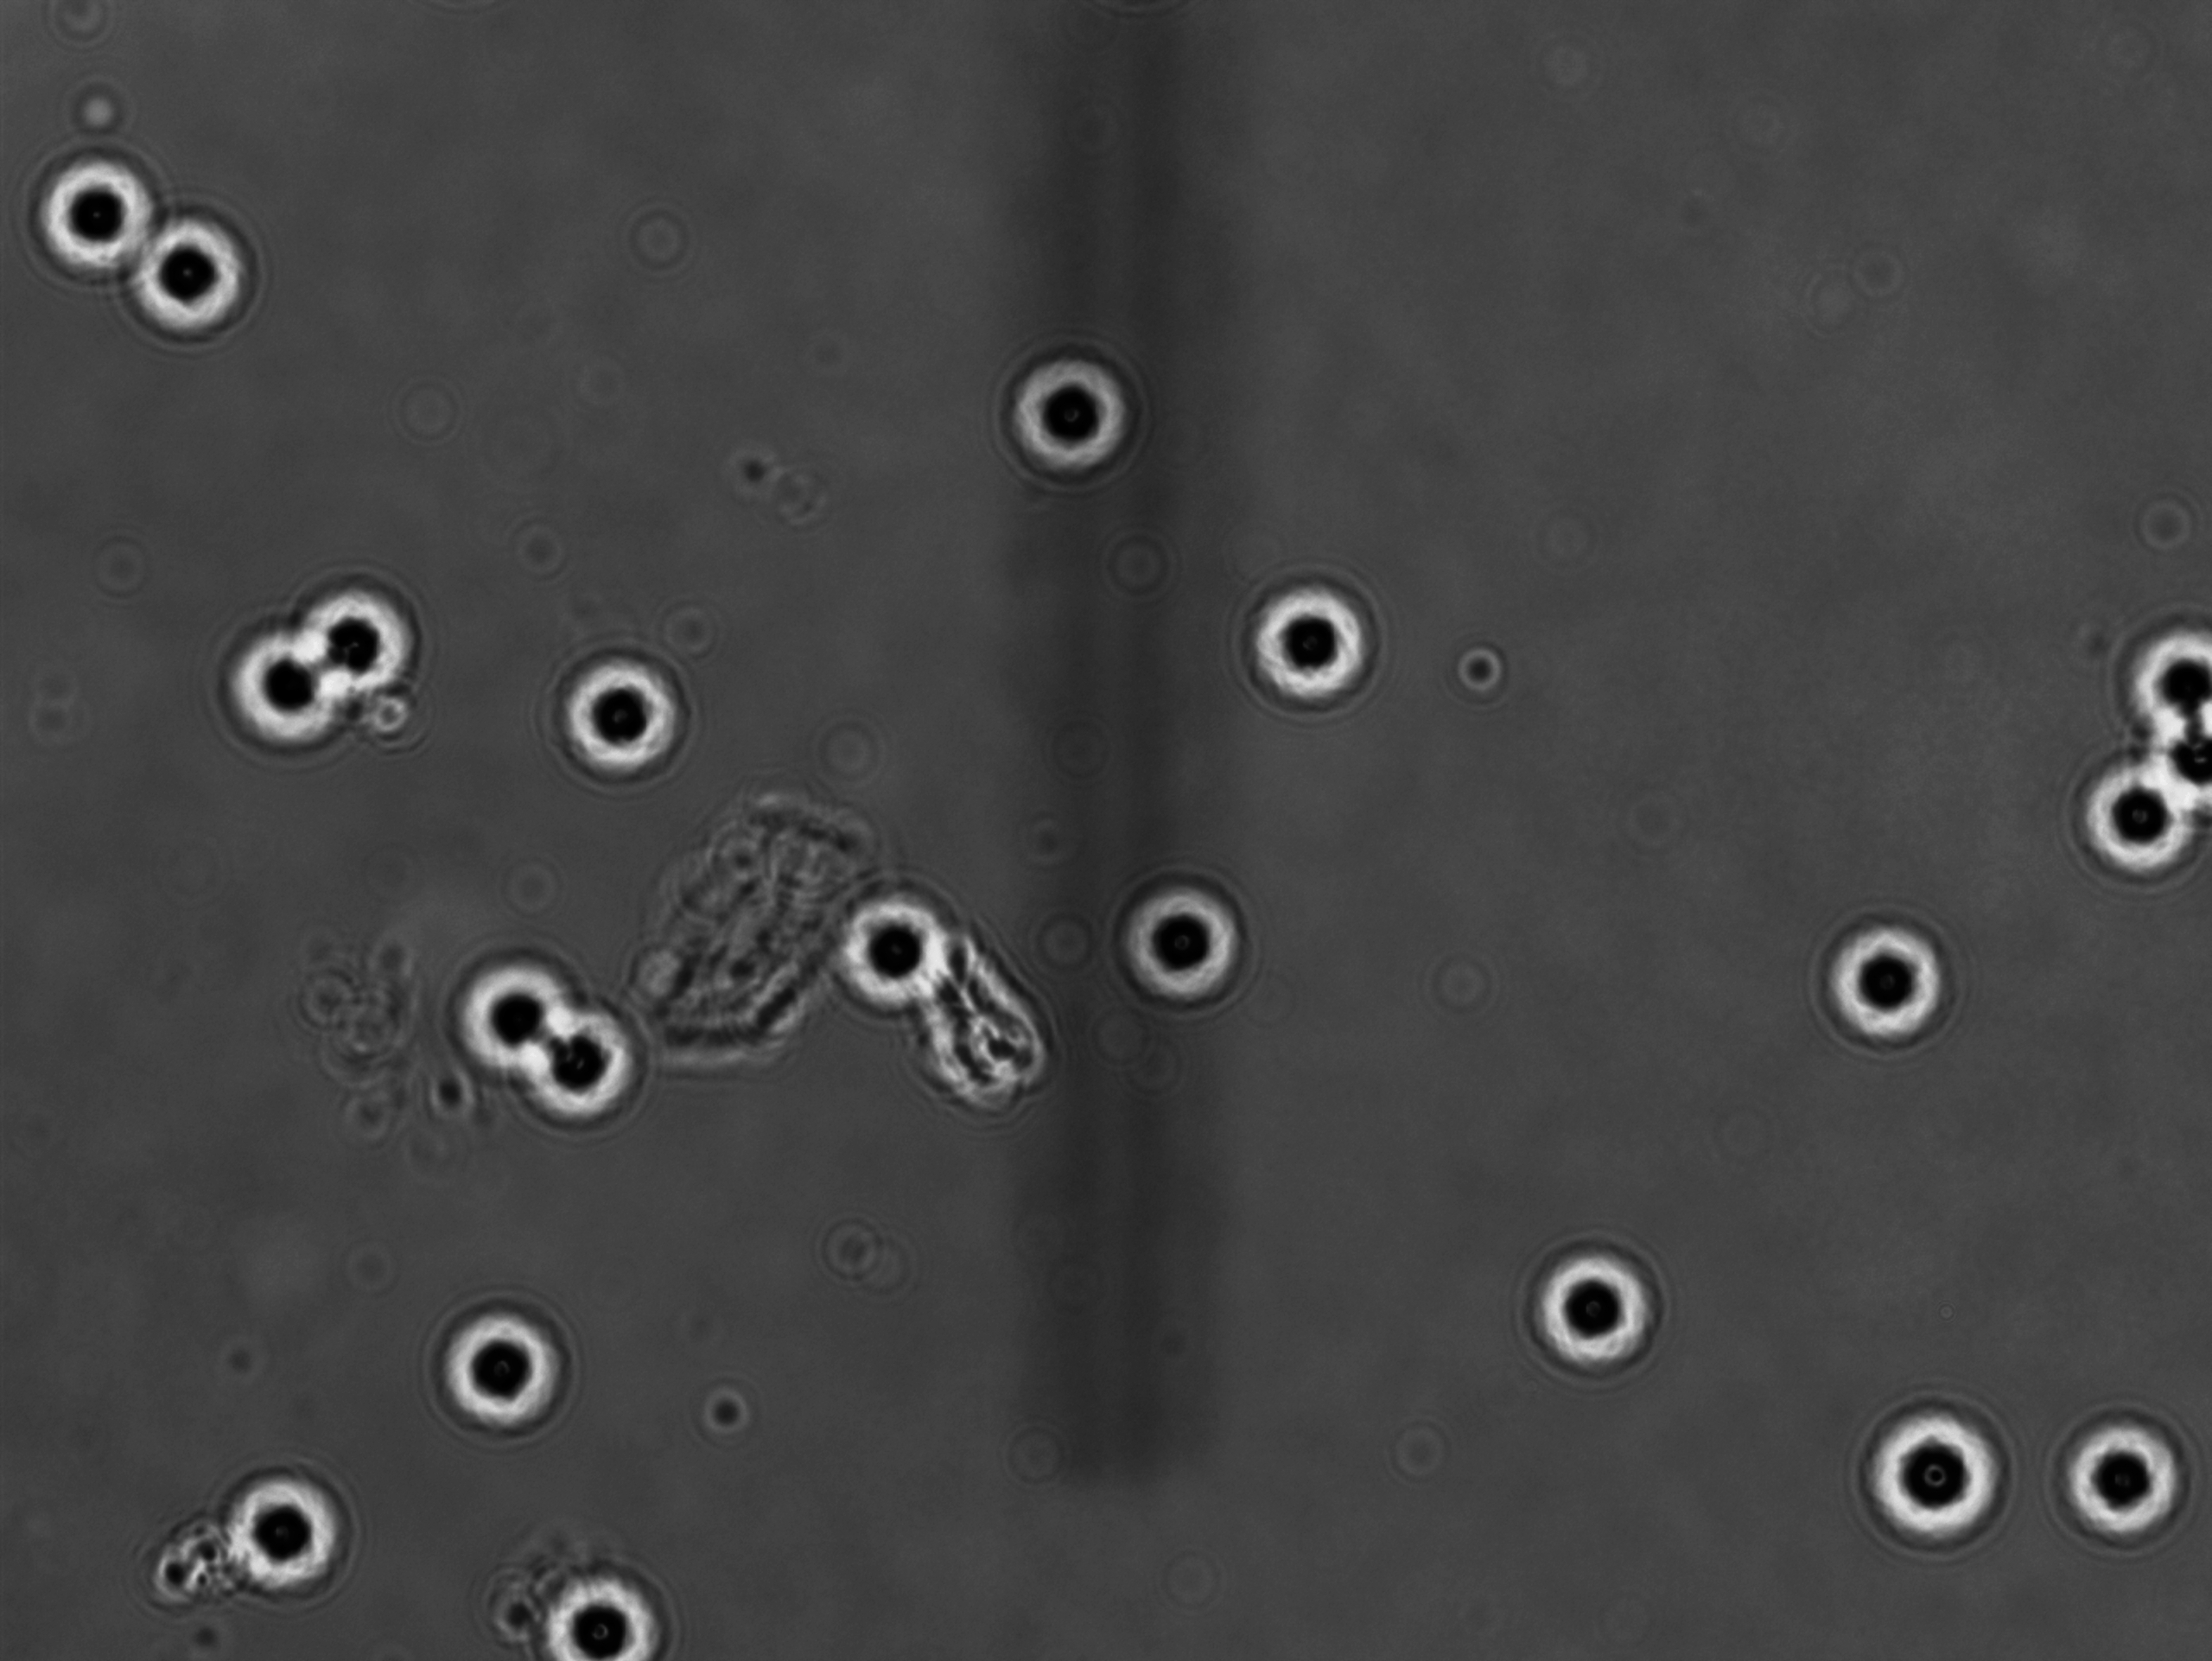depth:-20: (1228, 557, 1397, 733), (1851, 1380, 2022, 1546), (539, 632, 700, 801), (2048, 1392, 2202, 1567), (420, 1286, 583, 1450), (112, 197, 270, 349), (993, 340, 1155, 489), (1519, 1230, 1666, 1394), (202, 1460, 365, 1605), (1802, 904, 1949, 1057), (1111, 862, 1256, 1017), (2069, 736, 2212, 893), (829, 886, 977, 1036), (440, 935, 584, 1085), (520, 979, 659, 1134), (24, 152, 169, 283), (530, 1551, 689, 1661)
